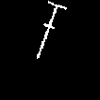double_crochet: (37, 1, 66, 58)
